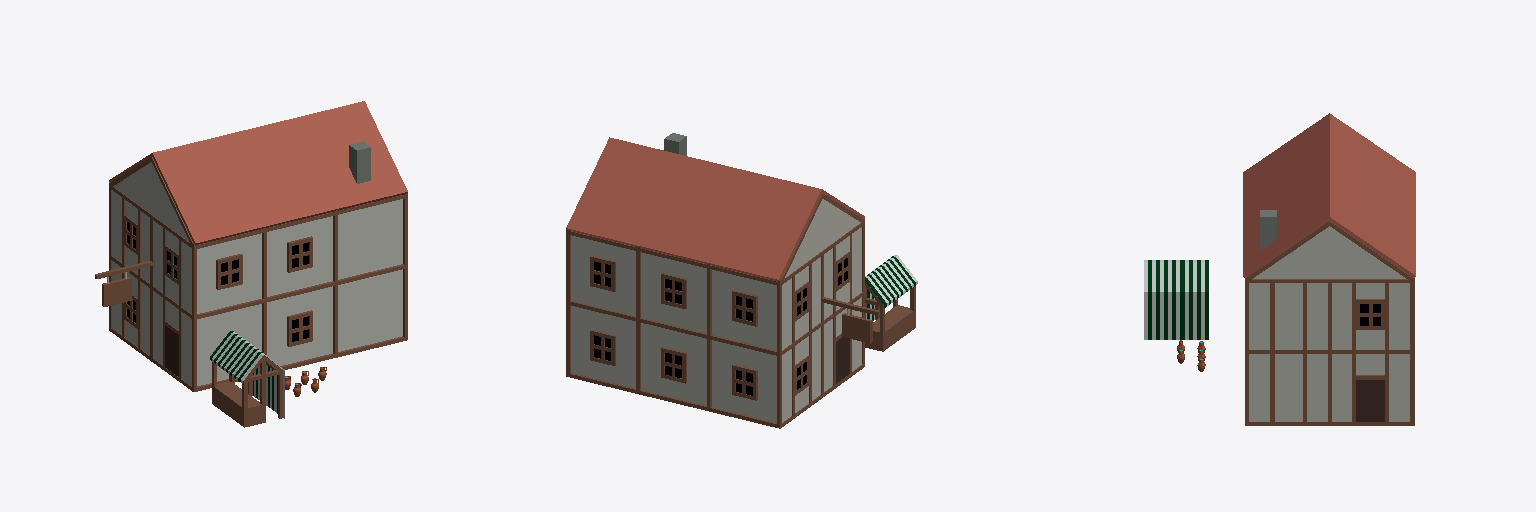
File: timberframedpotter_green_white.obj
3 renders of one model, left to right at view 1: azimuth 30°, elevation 25°; view 2: azimuth 150°, elevation 25°; view 3: azimuth 270°, elevation 25°, orthographic.
Parts seen in each view (by area): view 1: Cube.005, Cube.007_Cube.011, Cube.011_Cube.015, Cube.018_Cube.016, Cube.056_Cube.081, Cube.001_Cube.058, Cube.013_Cube.080, Cube.006_Cube.010, Cube.055_Cube.059, Cube.026_Cube.019, Cube.073_Cube.078, Cube.012_Cube.017 (+5 smaller); view 2: Cube.005, Cube.007_Cube.011, Cube.022_Cube.025, Cube.023_Cube.026, Cube.021_Cube.024, Cube.015_Cube.020, Cube.019_Cube.022, Cube.017_Cube.021, Cube.014_Cube.018, Cube.008, Cube.020_Cube.023, Cube.073_Cube.078 (+6 smaller); view 3: Cube.005, Cube.007_Cube.011, Cube.147_Cube.153, Cube.003, Cube.033, Cube.027, Cube.047_Cube.049, Cube.031, Cube.016_Cube.013, Cube.006_Cube.010, Cube.032, Cube.012_Cube.017 (+4 smaller).
Part boxes in pixels (x1,y1,x2,y2): Cube.005: (112,162,402,385); Cube.007_Cube.011: (109,101,407,244); Cube.011_Cube.015: (195,264,404,319); Cube.018_Cube.016: (195,195,406,249); Cube.056_Cube.081: (216,254,242,289); Cube.001_Cube.058: (287,310,312,346); Cube.013_Cube.080: (287,236,312,272); Cube.006_Cube.010: (349,141,370,183); Cube.055_Cube.059: (195,336,406,391); Cube.026_Cube.019: (192,243,196,391); Cube.073_Cube.078: (102,277,131,306); Cube.012_Cube.017: (403,193,407,339); Cube.005: (571,199,861,422); Cube.007_Cube.011: (566,137,864,280); Cube.022_Cube.025: (567,301,778,355); Cube.023_Cube.026: (567,373,776,427); Cube.021_Cube.024: (570,231,776,284); Cube.015_Cube.020: (732,290,757,326); Cube.019_Cube.022: (661,347,686,383); Cube.017_Cube.021: (590,330,615,365); Cube.014_Cube.018: (661,273,686,308); Cube.008: (590,255,615,291); Cube.020_Cube.023: (732,364,757,400); Cube.073_Cube.078: (842,313,872,343); Cube.005: (1249,226,1409,421); Cube.007_Cube.011: (1243,113,1415,277); Cube.147_Cube.153: (1144,292,1208,339); Cube.003: (1356,380,1384,421); Cube.033: (1356,299,1384,329); Cube.027: (1410,277,1414,425); Cube.047_Cube.049: (1270,279,1274,423); Cube.031: (1248,422,1410,425); Cube.016_Cube.013: (1248,350,1410,353); Cube.006_Cube.010: (1260,210,1276,249); Cube.032: (1248,279,1410,282); Cube.012_Cube.017: (1245,277,1248,425).
Bounding box in the file's own units: 15.3 × 11.25 × 13.34.